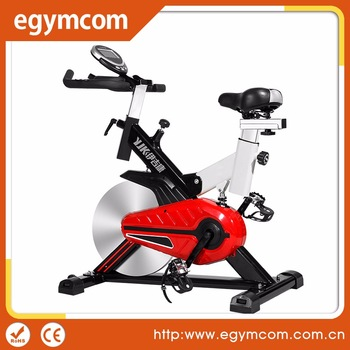gym_bike: (59, 44, 298, 301)
